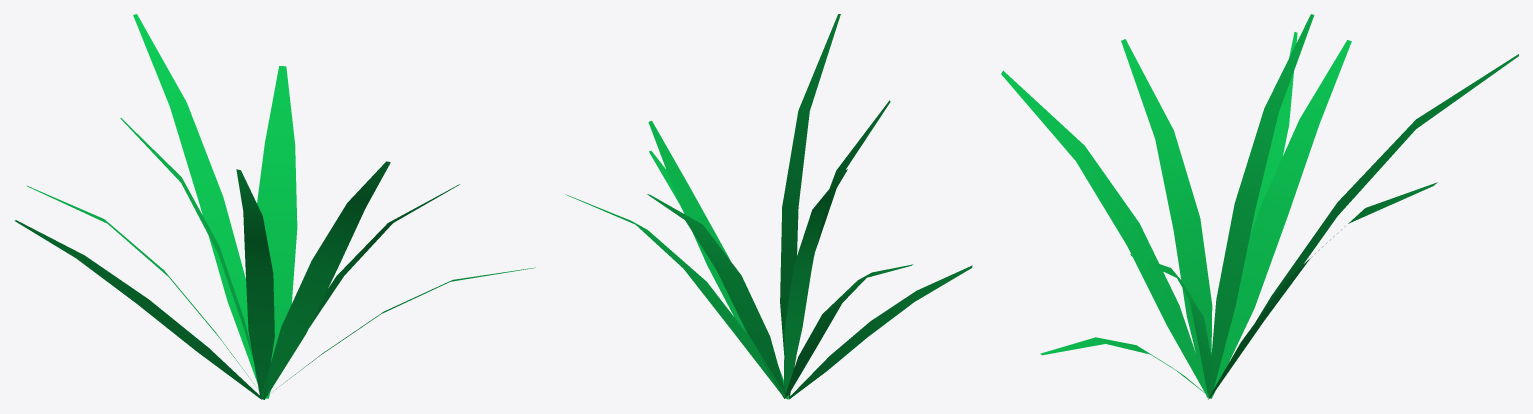
Rendered from Weed_20.fbx.
3 renders of one model, left to right at view 1: azimuth 30°, elevation 25°; view 2: azimuth 150°, elevation 25°; view 3: azimuth 270°, elevation 25°, orthographic. The views are drawn at different scales.
Parts seen in each view (by area): view 1: weed1; view 2: weed1; view 3: weed1.
Boxes of the visible parts, bbox=[...] form: weed1: bbox=[14, 14, 535, 399]; weed1: bbox=[565, 14, 972, 399]; weed1: bbox=[1001, 14, 1518, 399].
Size of the model in its own units: 62.94 by 42.56 by 57.36.
